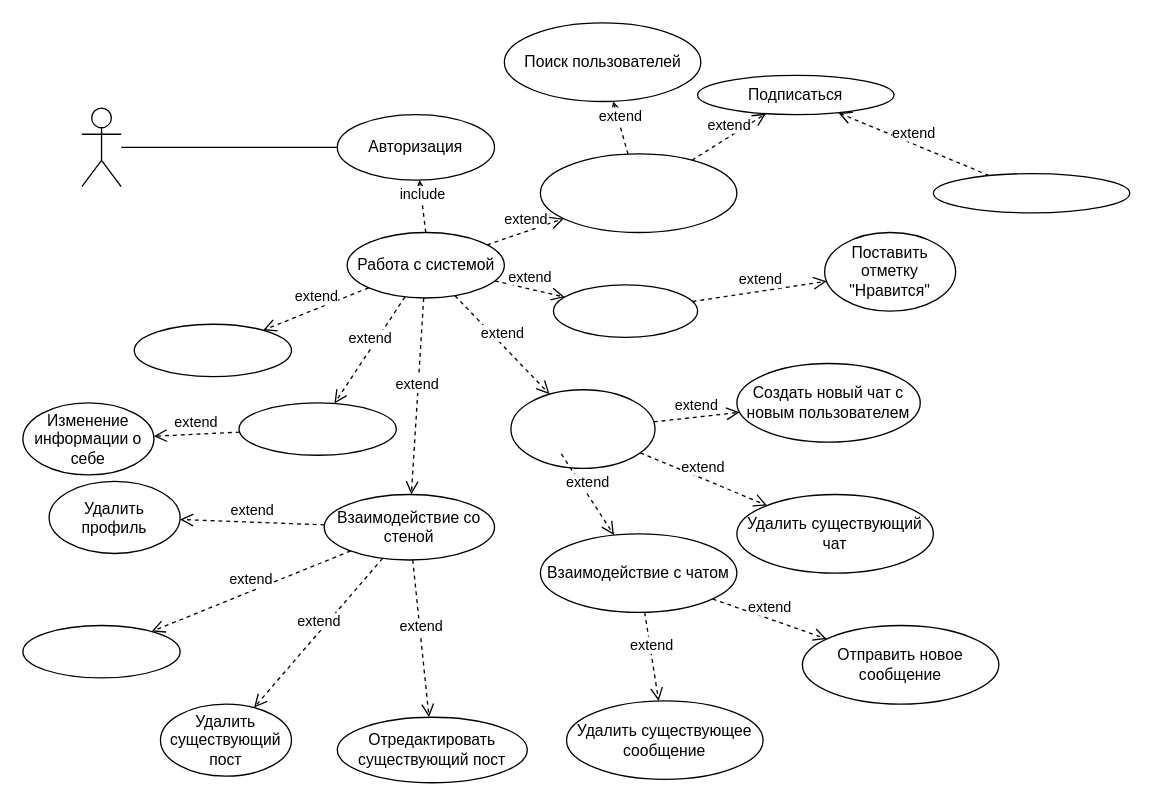
This 1153x806 diagram has some shape labels left out. The centre of each missing label's shape, as x and y in pixels:
User: pixel 101 147
Взаимодействие с мессенджером: pixel 582 428
Взаимодействие со странице другого пользователя: pixel 638 193
Выйти из аккаунта: pixel 212 350
Отписаться: pixel 1031 192
отредактировать свой профиль: pixel 317 428
Посмотреть ленту: pixel 625 310
Создать новый пост: pixel 101 651
